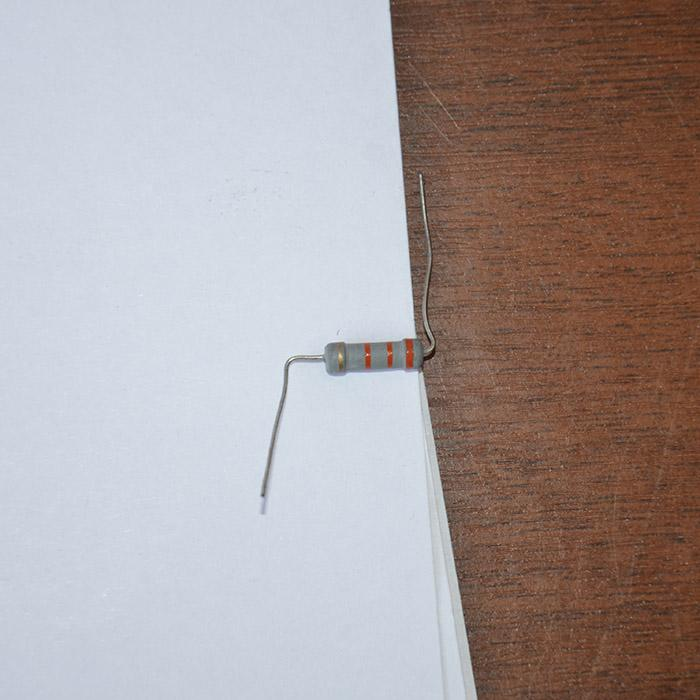resistor: (323, 337, 424, 374)
